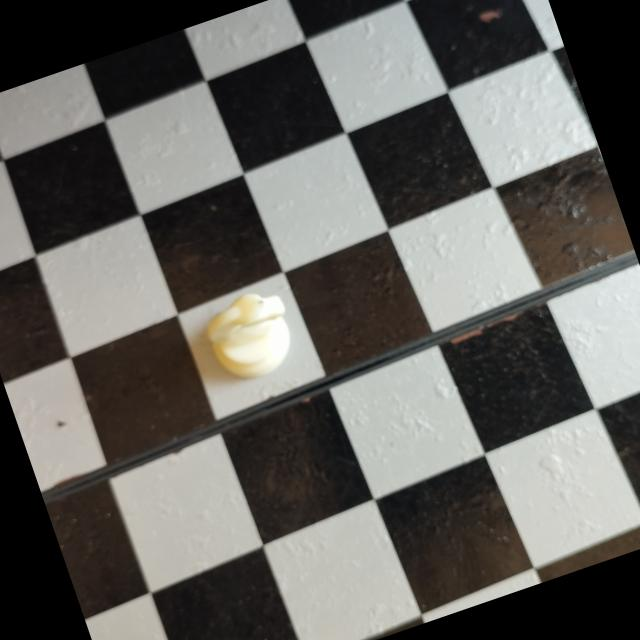White Knight: (187, 276, 316, 400)
